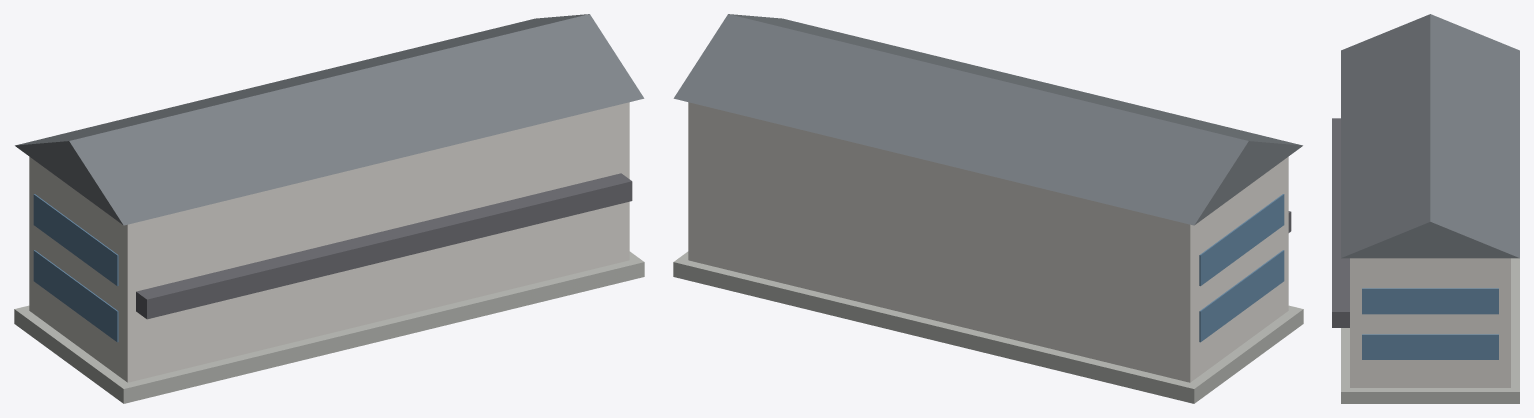
Rendered from hotel_motor_inn.glb.
The picture shows the model from 3 angles, left to right: view 1: azimuth 30°, elevation 25°; view 2: azimuth 150°, elevation 25°; view 3: azimuth 270°, elevation 25°; orthographic projection. The views are drawn at different scales.
Parts seen in each view (by area): view 1: hotel_motor_inn; view 2: hotel_motor_inn; view 3: hotel_motor_inn.
Part boxes in pixels (x1,y1,x2,y2): hotel_motor_inn: [14, 14, 644, 403]; hotel_motor_inn: [673, 14, 1303, 403]; hotel_motor_inn: [1332, 14, 1519, 403].
Size of the model in its own units: 22 by 9 by 8.4.
